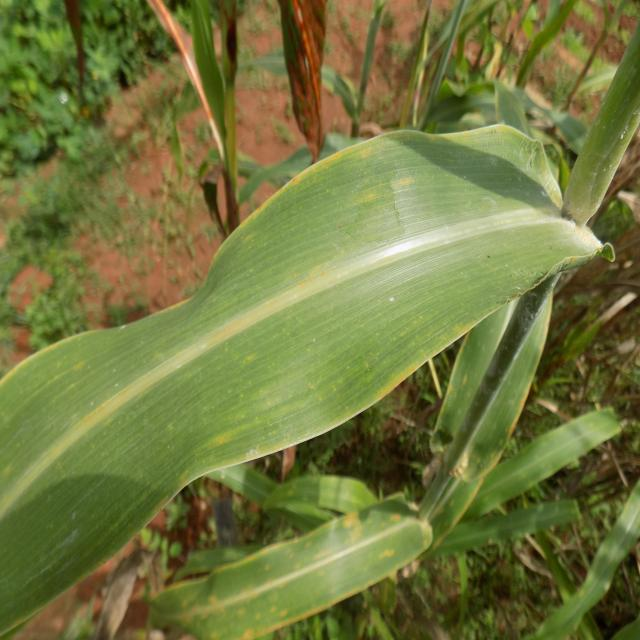millet_healthy: (0, 118, 614, 640)
